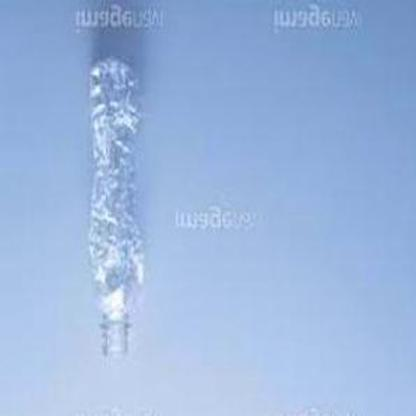plastic bottle: (86, 56, 145, 356)
